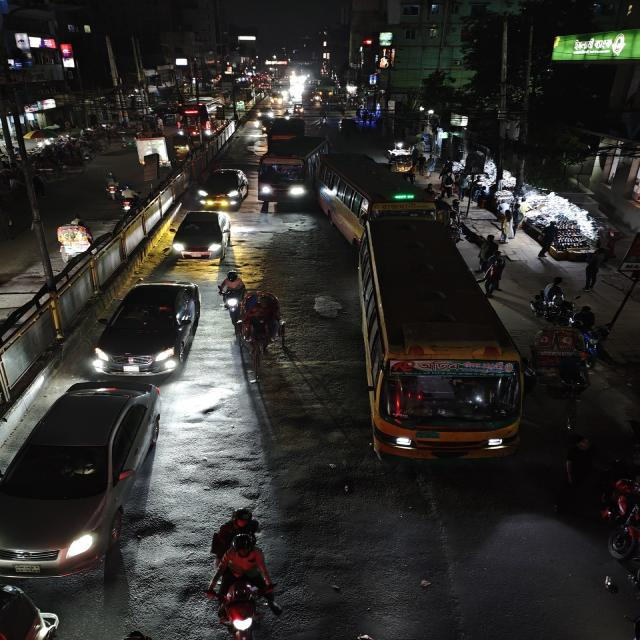bus: (356, 218, 522, 462), (316, 150, 439, 248), (255, 133, 330, 204)
car: (1, 381, 165, 575), (93, 276, 205, 378), (166, 208, 235, 262), (194, 165, 251, 209)
cng: (172, 134, 194, 156)
motorcycle: (216, 508, 268, 640), (601, 476, 640, 574), (605, 450, 640, 509), (101, 170, 128, 203), (118, 184, 140, 214)
pedestrian: (560, 434, 596, 494), (580, 246, 611, 291), (481, 254, 509, 294), (543, 276, 568, 314), (478, 235, 502, 268)
rickshaw: (529, 324, 600, 407), (230, 293, 283, 366), (49, 214, 100, 264)
